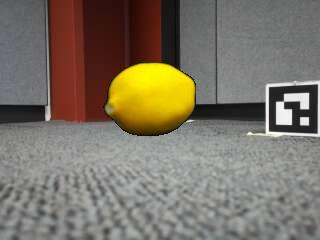lemon: (107, 62, 196, 135)
